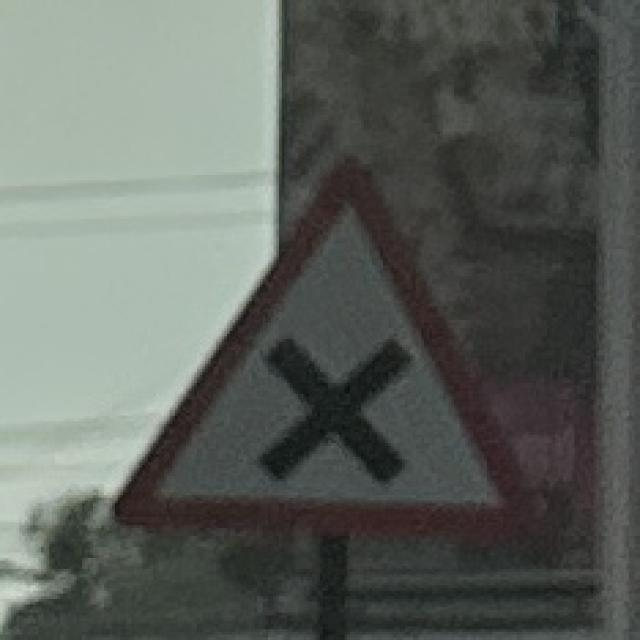CROSS_ROAD: (103, 144, 552, 560)
